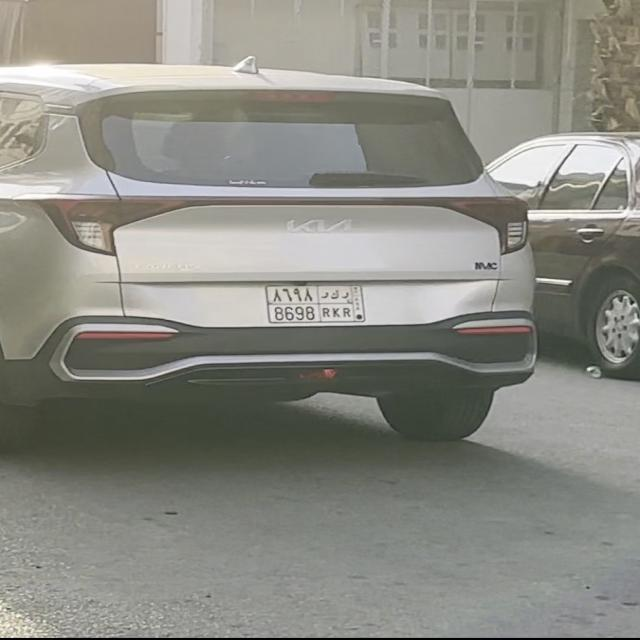Car-plate: (258, 276, 391, 334)
